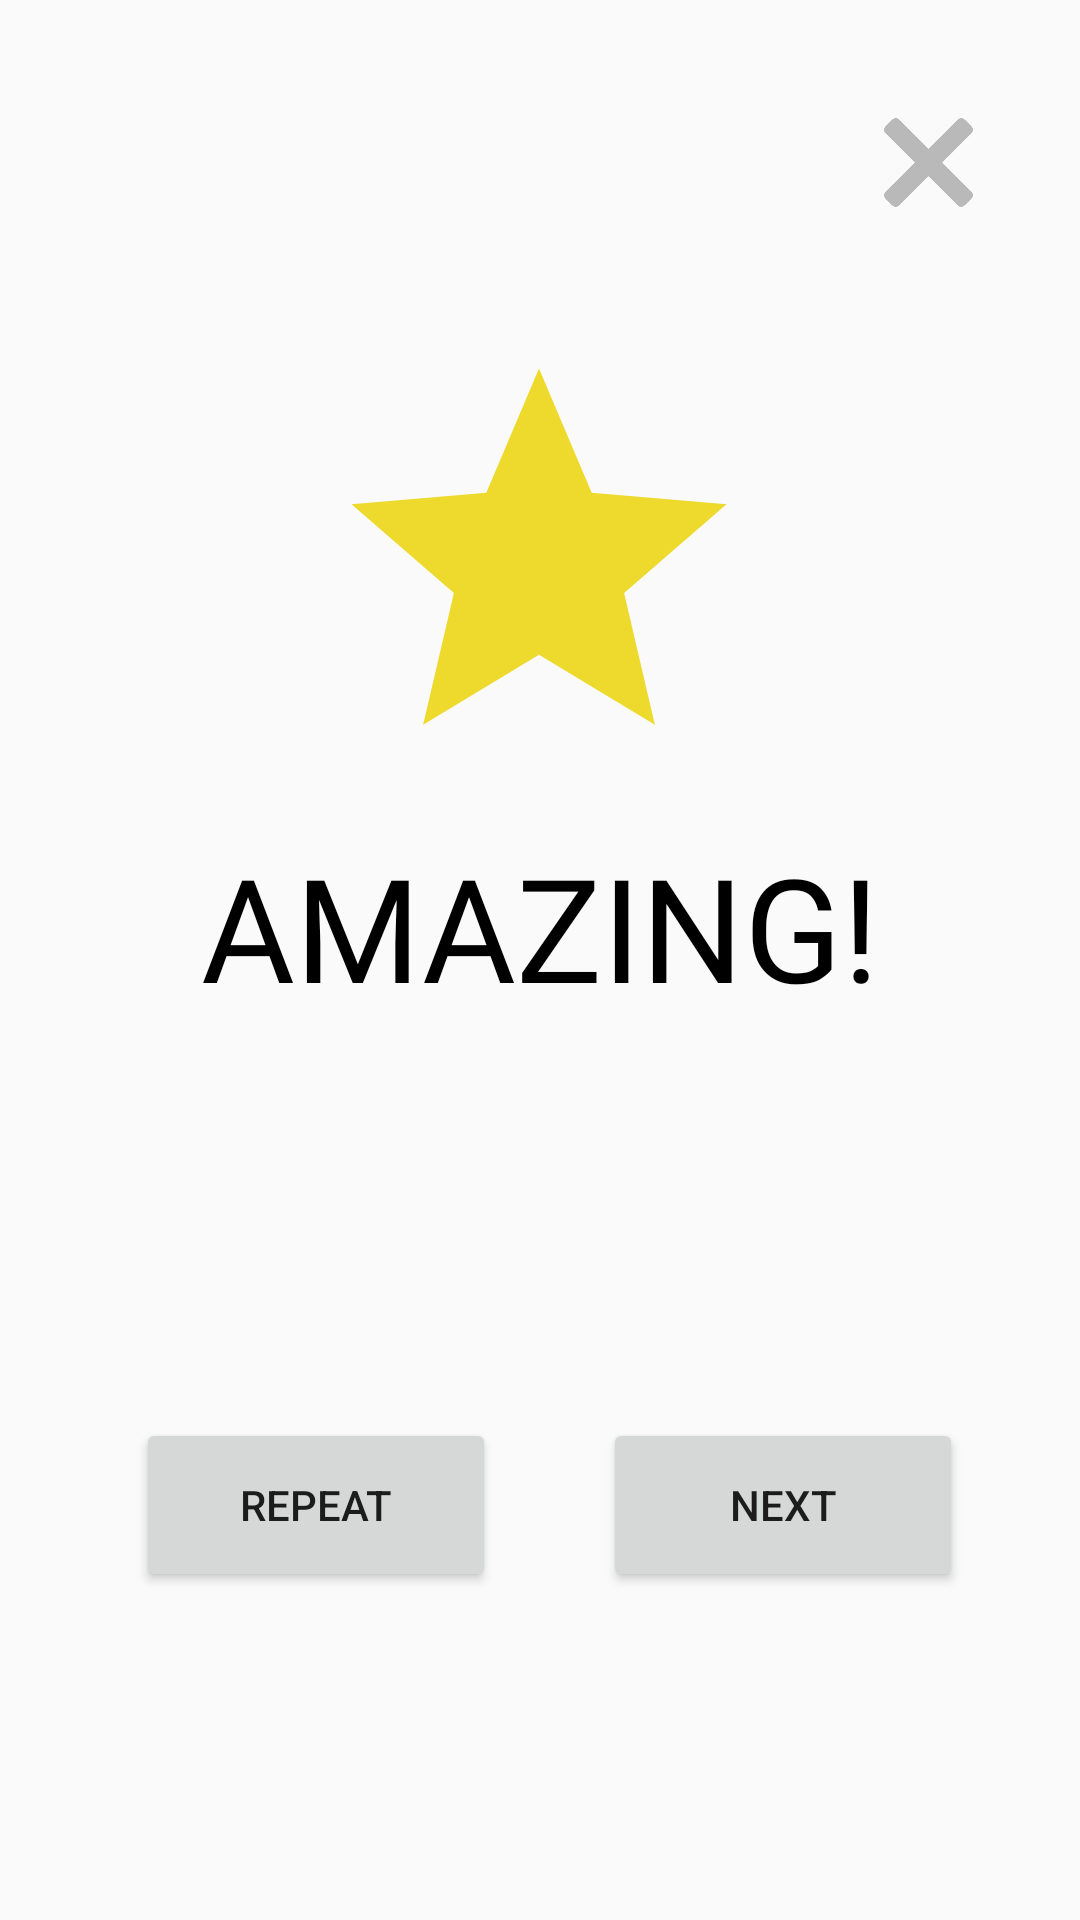

Icon click points for this 1080*1920 phone screenshot, format (x,y):
xouticon: (928,162)
